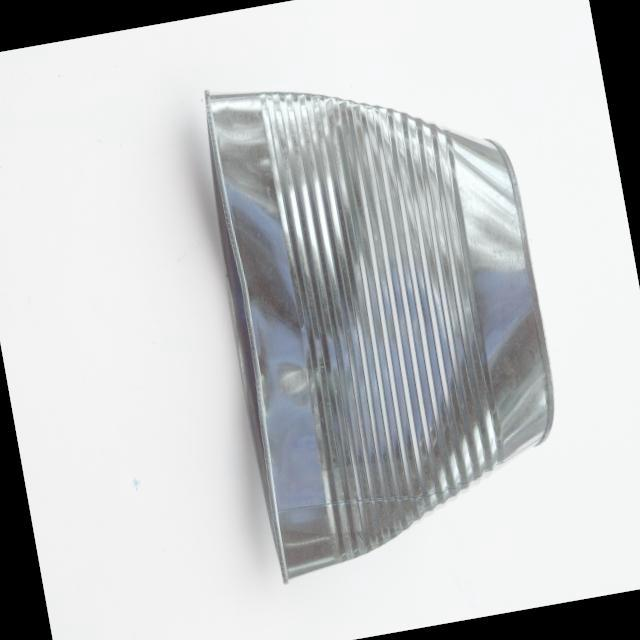metal: (178, 28, 590, 590)
